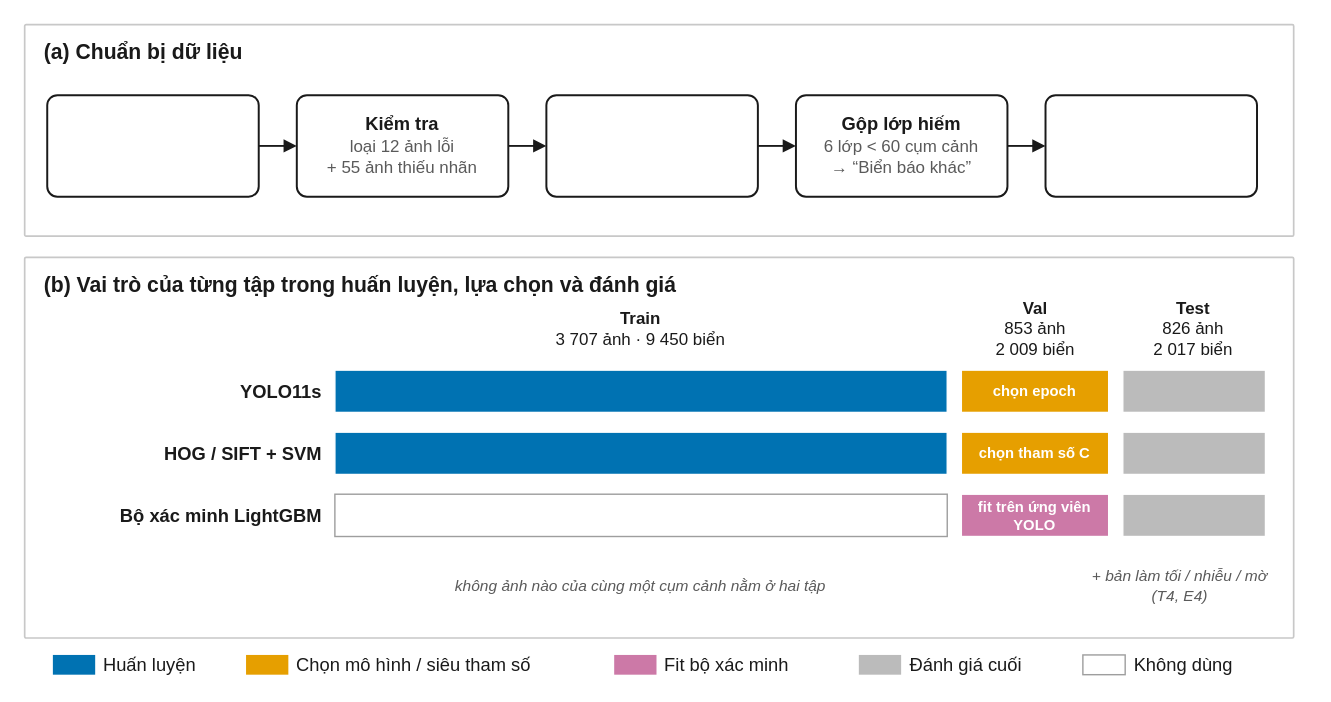
Image size: 1331x702. Some labels were removed from this diagram. The shapes that lost their labels are listed below. From the top down, each one's box as (x1, y1, x2, y2) in pixels, then its label:
(46, 93, 259, 197): Roboflow (CC BY 4.0) 5 453 ảnh · 13 478 biển 32 lớp
(545, 93, 758, 197): Ảnh gần trùng pHash 8×8, Hamming ≤ 6 3 889 cụm cảnh
(1044, 93, 1257, 197): Chia theo cụm 70 / 15 / 15 · phân tầng theo lớp + độ phân giải
